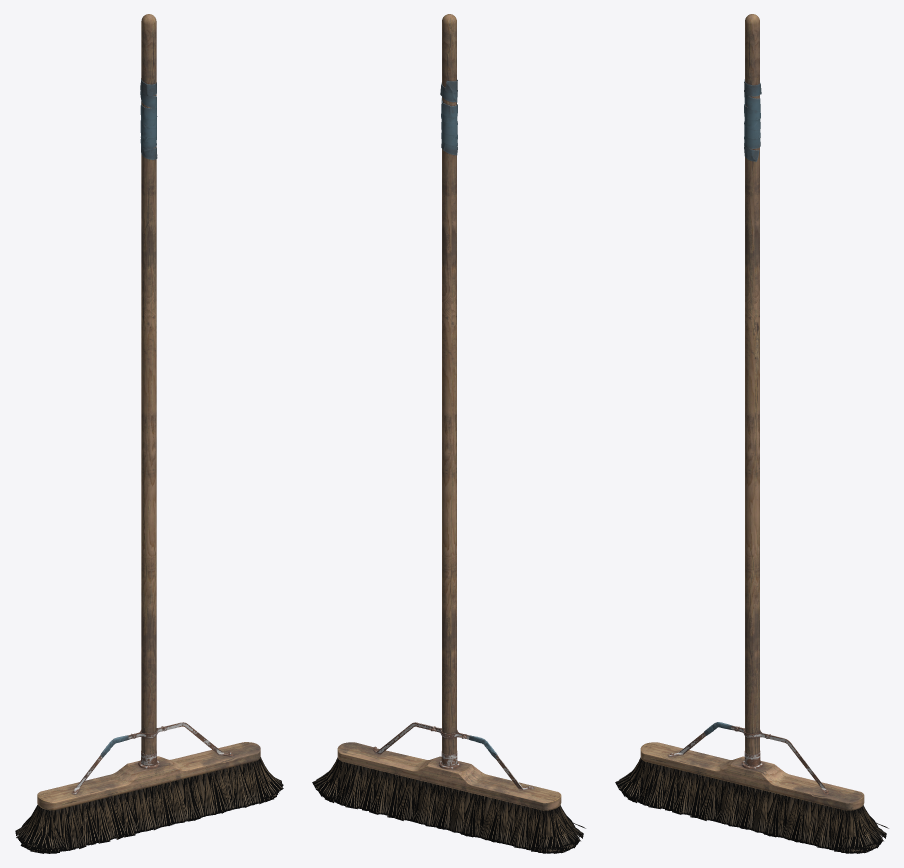
Rendered from wooden_broom_2k.gltf.
3 renders of one model, left to right at view 1: azimuth 30°, elevation 25°; view 2: azimuth 150°, elevation 25°; view 3: azimuth 330°, elevation 25°, orthographic.
Visible parts, largest first — view 1: wooden_broom_handle, wooden_broom_bristles, wooden_broom; view 2: wooden_broom_handle, wooden_broom_bristles, wooden_broom; view 3: wooden_broom_handle, wooden_broom_bristles, wooden_broom.
Boxes of the visible parts, left/top/right/bottom form: wooden_broom_handle: left=140, top=14, right=157, bottom=765; wooden_broom_bristles: left=15, top=757, right=283, bottom=853; wooden_broom: left=37, top=722, right=260, bottom=817; wooden_broom_handle: left=440, top=14, right=457, bottom=766; wooden_broom_bristles: left=312, top=757, right=585, bottom=853; wooden_broom: left=337, top=722, right=565, bottom=826; wooden_broom_handle: left=744, top=14, right=761, bottom=766; wooden_broom_bristles: left=615, top=757, right=888, bottom=853; wooden_broom: left=640, top=722, right=864, bottom=826.
Bounding box in the file's own units: 0.4902 × 1.45 × 0.1125.
Materials: 2 (2 with a texture image).
